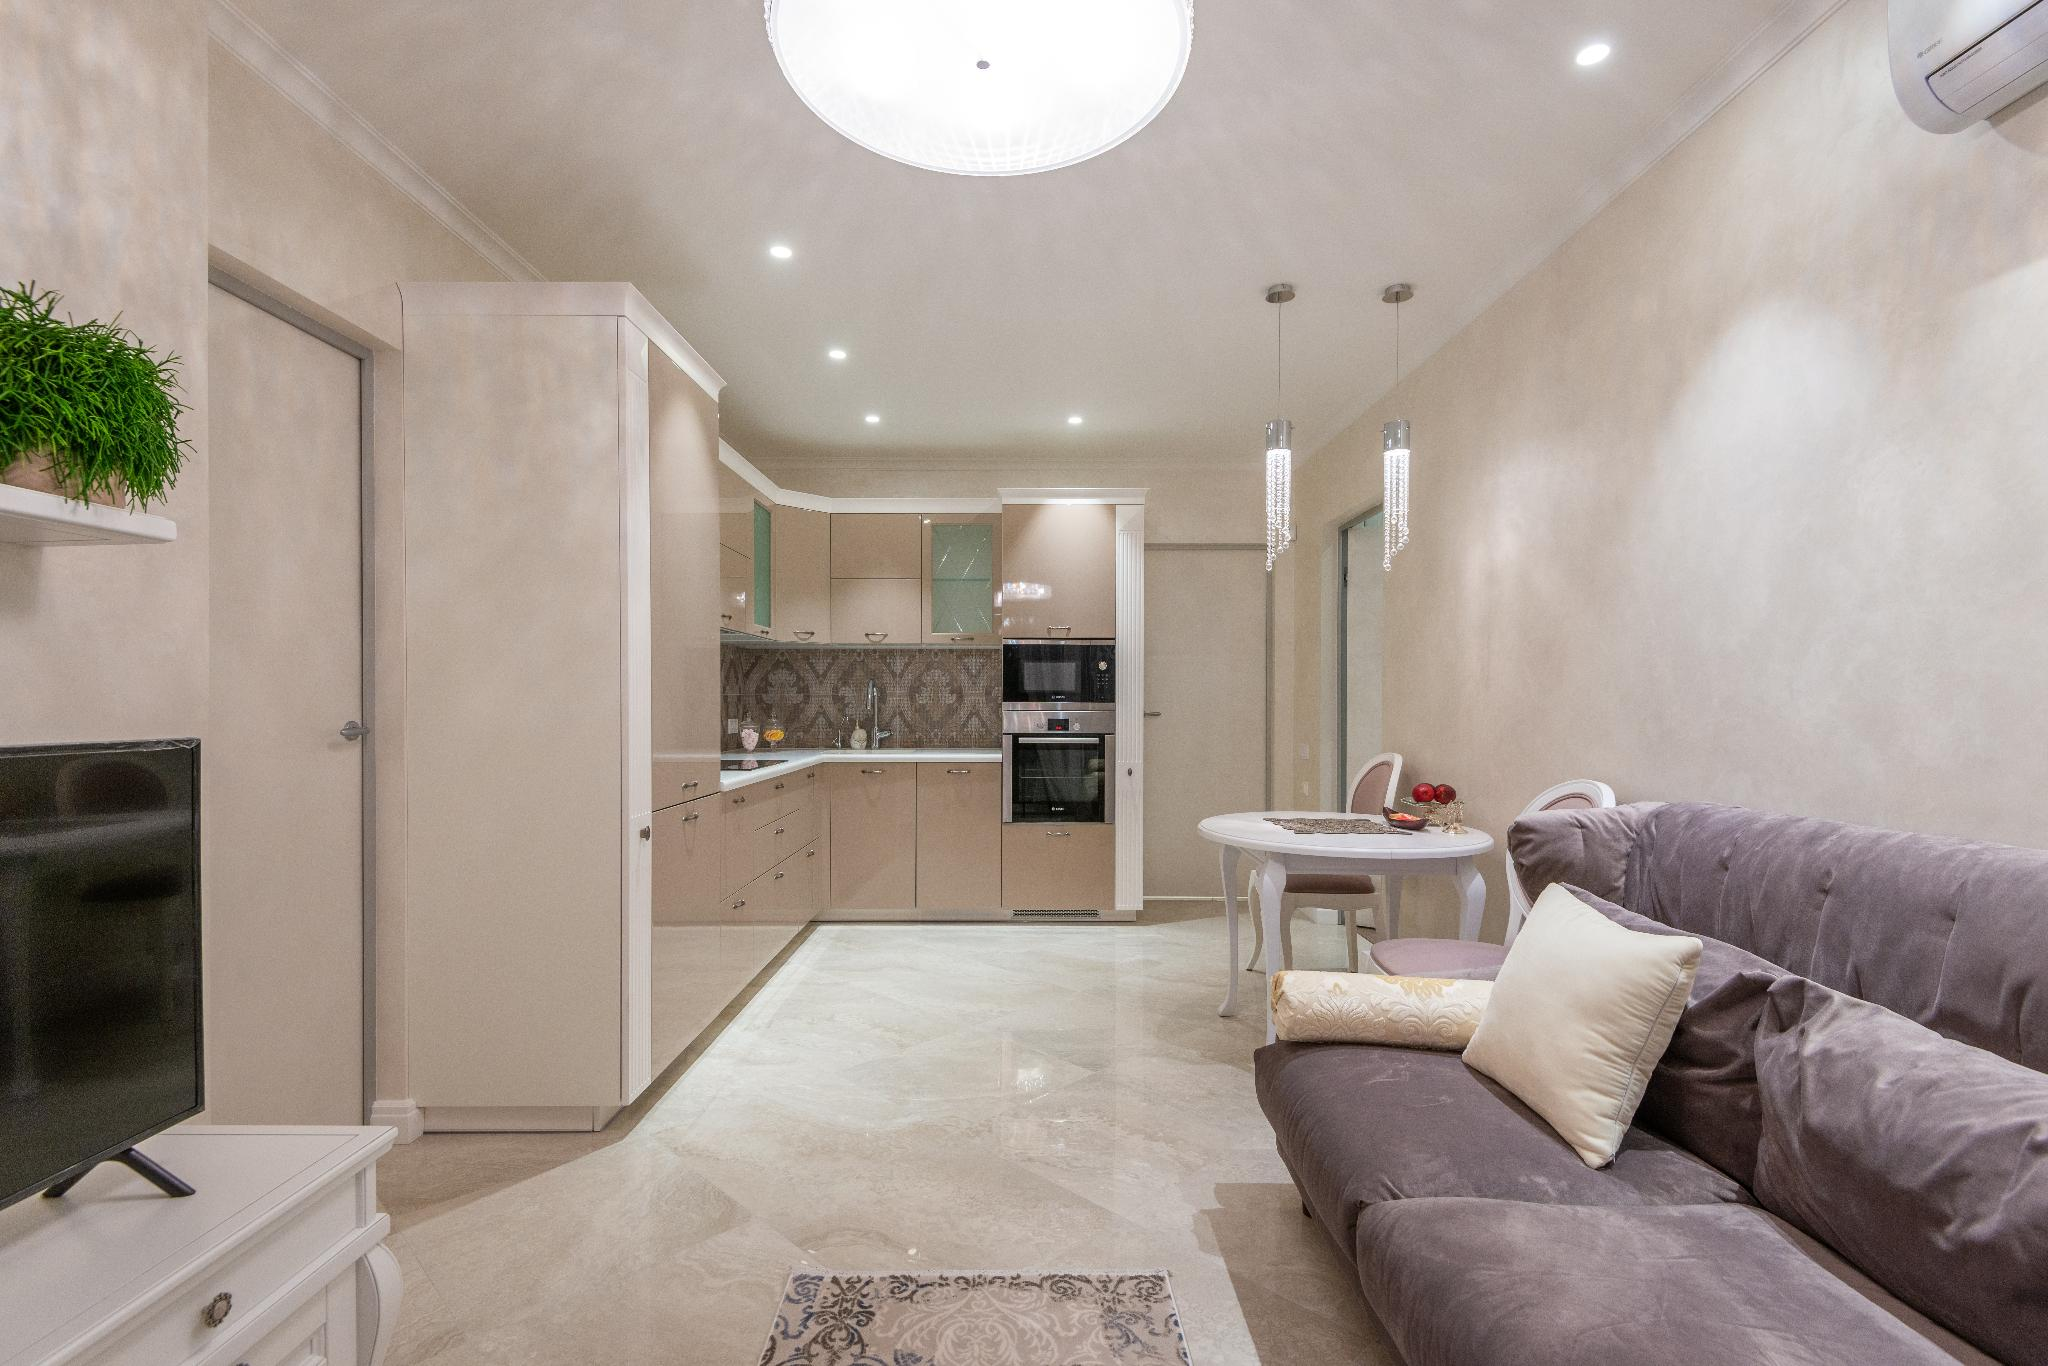1: (1294, 0, 2048, 947), (402, 314, 620, 1133), (207, 34, 517, 352), (651, 762, 826, 1082), (821, 762, 1117, 912), (756, 468, 1268, 544), (649, 338, 721, 813), (744, 648, 1003, 750), (373, 352, 407, 1101), (1001, 505, 1115, 640), (829, 514, 930, 645), (1274, 471, 1298, 813), (776, 503, 829, 643), (1320, 526, 1338, 813), (6, 451, 66, 497), (721, 643, 745, 753), (87, 470, 133, 511), (111, 323, 142, 340), (122, 331, 139, 348), (133, 495, 146, 514)
Floor: (375, 901, 1417, 1366), (1289, 909, 1352, 973), (1358, 933, 1374, 970)
